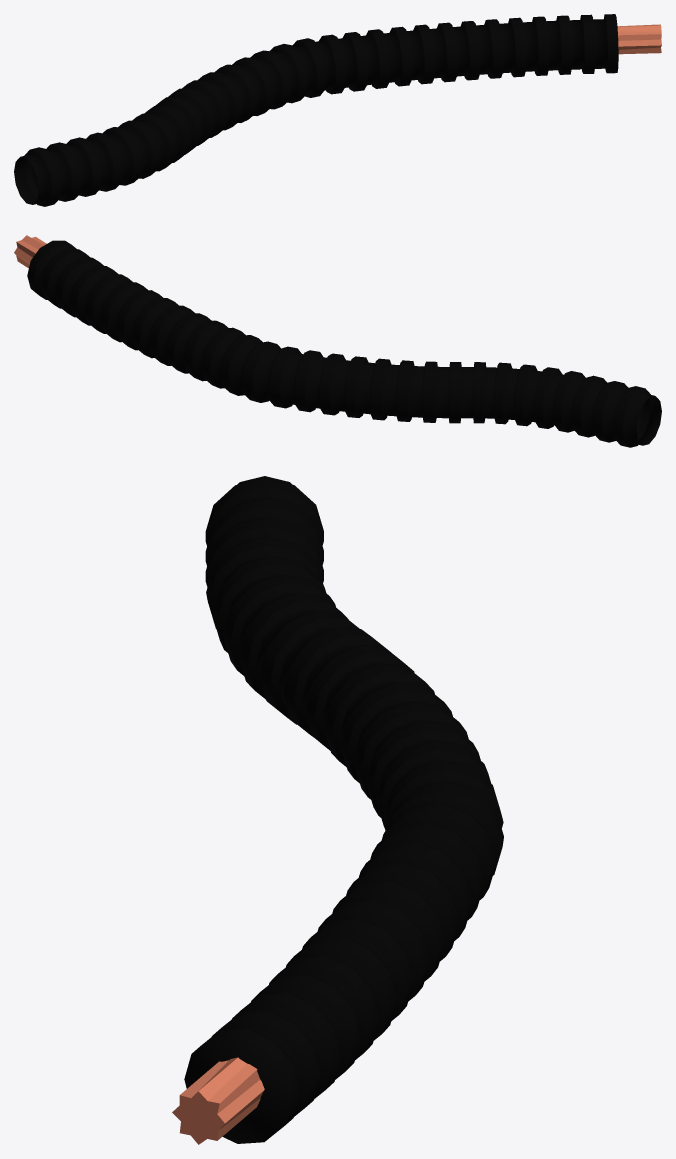
The model's file is NegativeWire_01.fbx.
3 renders of one model, top to bottom at view 1: azimuth 30°, elevation 25°; view 2: azimuth 150°, elevation 25°; view 3: azimuth 270°, elevation 25°, orthographic. The views are drawn at different scales.
Parts seen in each view (by area): view 1: Negative_Wire; view 2: Negative_Wire; view 3: Negative_Wire.
Part boxes in pixels (<box>): Negative_Wire: <box>14,14,661,206</box>; Negative_Wire: <box>14,235,661,447</box>; Negative_Wire: <box>172,476,503,1144</box>.
Bounding box in the file's own units: 347 × 28.59 × 80.07.
